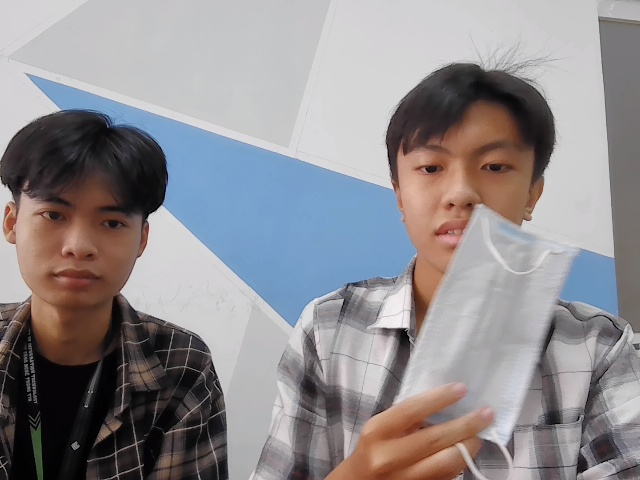human: (378, 53, 558, 270), (2, 108, 163, 309)
mask: (393, 203, 577, 447)
